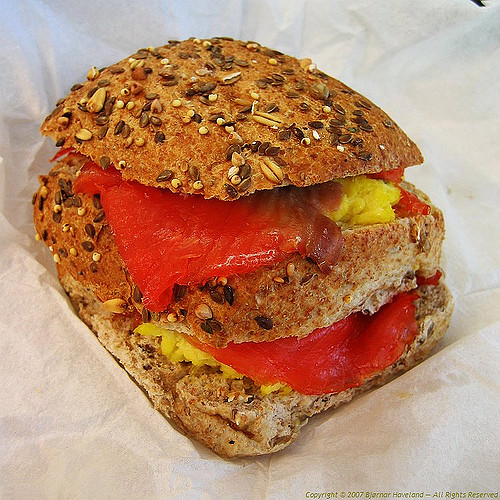slice of bread: (42, 202, 450, 333), (62, 47, 415, 190), (126, 338, 446, 440)
